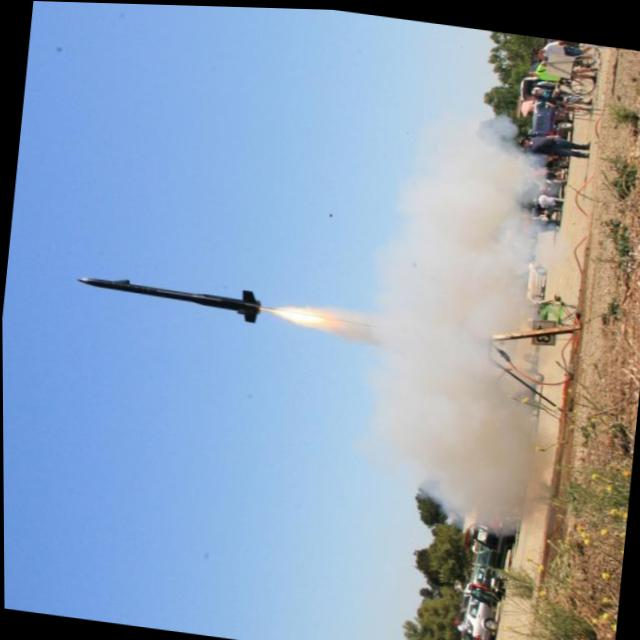missile: (73, 253, 269, 317)
